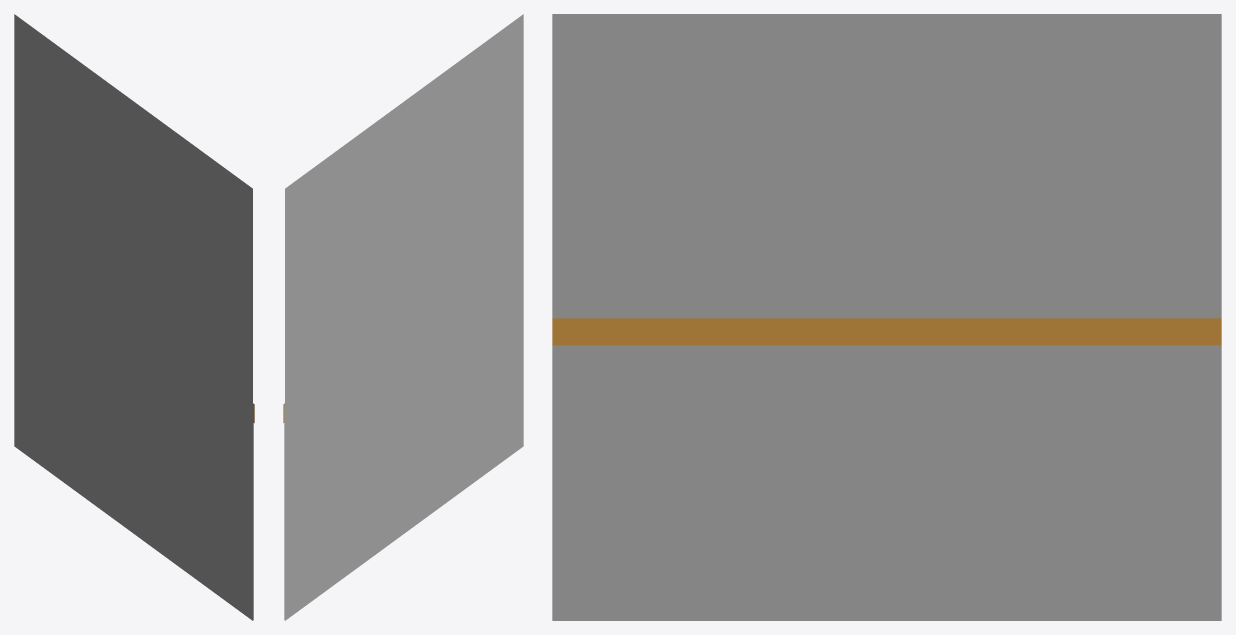
The model's file is SM_Modular_Wall_4x4.fbx.
The picture shows the model from 3 angles, left to right: view 1: azimuth 30°, elevation 25°; view 2: azimuth 150°, elevation 25°; view 3: azimuth 270°, elevation 25°; orthographic projection. The views are drawn at different scales.
Visible parts, largest first — view 1: Modular_Wall_4x4; view 2: Modular_Wall_4x4; view 3: Modular_Wall_4x4.
Boxes of the visible parts, x1,y1,x2,y2 form: Modular_Wall_4x4: (14,14,254,620); Modular_Wall_4x4: (283,14,523,620); Modular_Wall_4x4: (552,14,1221,620).
Bounding box in the file's own units: 1.71 × 400 × 400.
